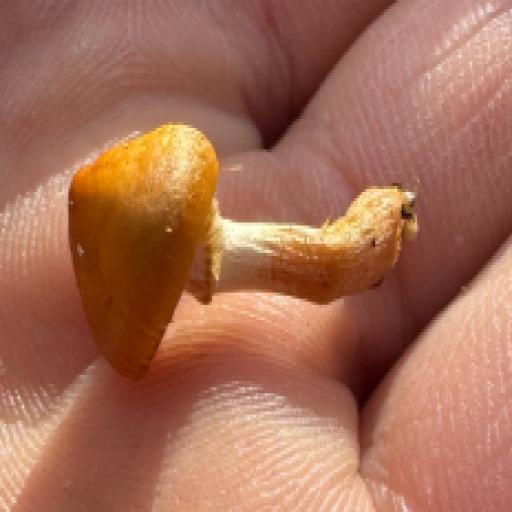Funeral Bell: (60, 116, 419, 380)
